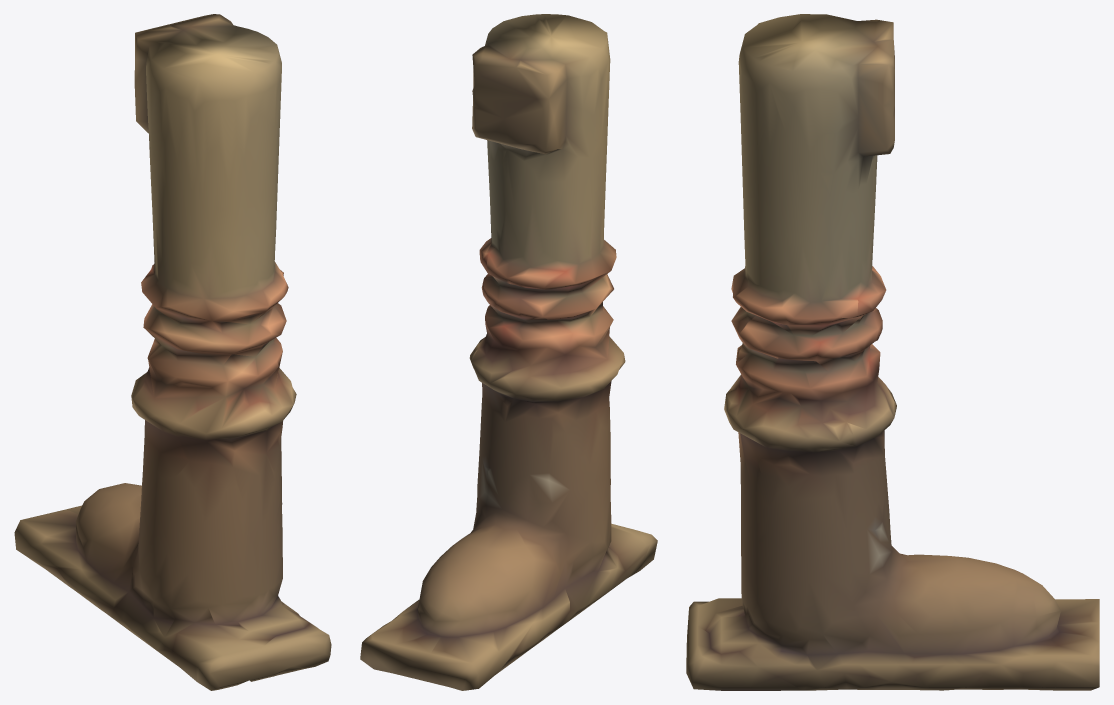
The model's file is hero_shin_r.glb.
3 renders of one model, left to right at view 1: azimuth 30°, elevation 25°; view 2: azimuth 150°, elevation 25°; view 3: azimuth 270°, elevation 25°, orthographic. The views are drawn at different scales.
Parts seen in each view (by area): view 1: geometry_0; view 2: geometry_0; view 3: geometry_0.
Boxes of the visible parts, left/top/right/bottom form: geometry_0: left=14, top=14, right=331, bottom=690; geometry_0: left=360, top=14, right=657, bottom=690; geometry_0: left=686, top=14, right=1099, bottom=690.
Size of the model in its own units: 0.14 by 0.5528 by 0.3342.
